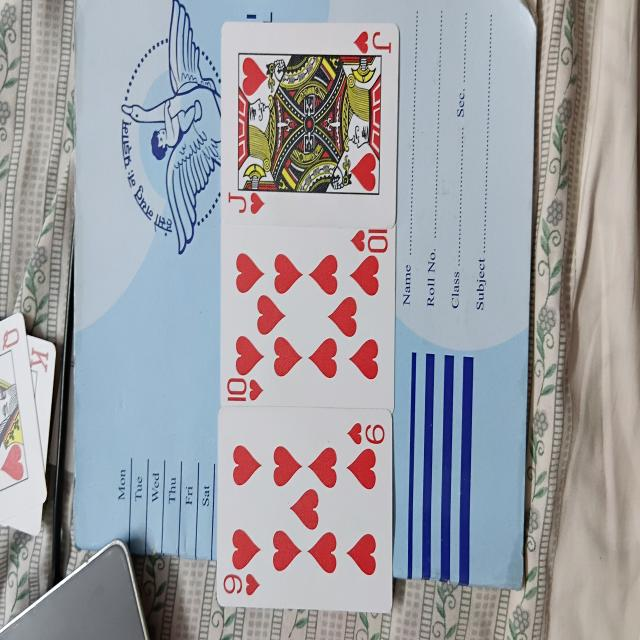10H: (219, 227, 394, 407)
9H: (217, 407, 393, 612)
JH: (220, 21, 398, 223)
